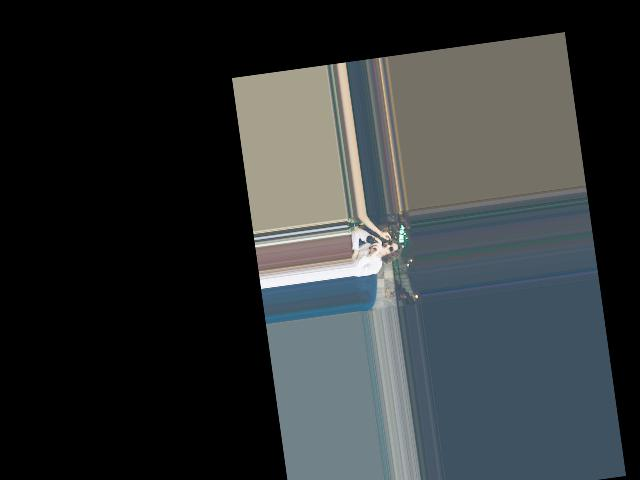beer: (364, 232, 386, 249)
